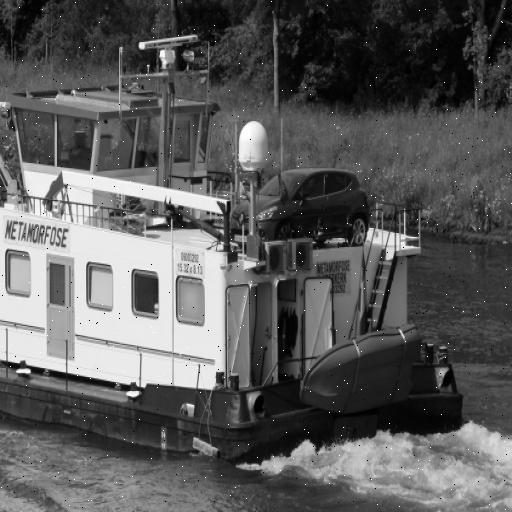tugboat: (1, 30, 470, 476)
